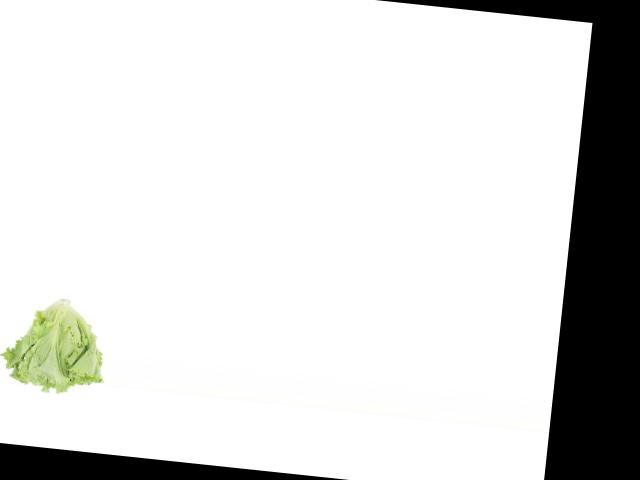lettuce: (1, 290, 113, 402)
